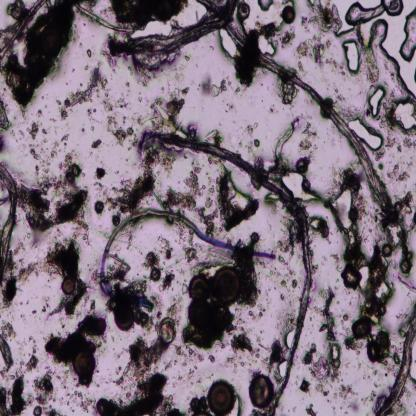Air bubble: (344, 0, 404, 27), (347, 118, 383, 149), (399, 5, 416, 60), (390, 98, 416, 131), (340, 39, 361, 75), (365, 86, 386, 116), (218, 29, 238, 59), (258, 34, 276, 56), (95, 316, 108, 334), (256, 0, 274, 12), (286, 327, 296, 348), (276, 358, 287, 376), (31, 404, 41, 416), (28, 395, 34, 403)
Background material: (2, 0, 76, 107), (109, 333, 167, 416), (16, 177, 93, 235), (139, 80, 200, 146), (14, 118, 60, 194), (215, 165, 262, 230), (93, 167, 156, 214), (309, 286, 339, 384), (232, 24, 276, 89), (41, 314, 95, 366), (178, 302, 235, 349), (228, 235, 264, 308), (362, 243, 394, 323), (57, 70, 106, 122), (100, 85, 136, 150), (327, 166, 360, 234), (353, 187, 388, 244), (110, 250, 147, 300), (47, 278, 90, 320), (43, 238, 83, 281), (9, 333, 39, 380), (136, 141, 176, 175), (297, 0, 336, 34), (299, 34, 335, 68), (160, 185, 199, 216), (340, 226, 368, 269), (180, 154, 208, 197), (31, 366, 59, 406), (59, 152, 87, 188), (196, 202, 224, 238), (14, 257, 45, 289), (176, 223, 200, 264), (273, 218, 300, 254), (379, 87, 403, 127), (200, 71, 234, 98), (8, 372, 28, 416), (298, 118, 320, 156), (360, 47, 380, 86), (190, 252, 225, 274), (366, 337, 390, 369), (277, 76, 301, 107), (230, 334, 261, 358), (275, 303, 297, 335), (398, 220, 414, 261), (133, 310, 158, 335), (0, 332, 13, 378), (392, 198, 416, 222), (12, 231, 34, 257), (274, 26, 298, 49), (158, 397, 187, 416), (313, 212, 331, 242), (339, 334, 365, 354), (332, 382, 357, 402), (268, 336, 284, 367), (0, 279, 15, 312), (102, 44, 118, 74), (140, 247, 162, 268), (71, 390, 94, 410), (278, 252, 297, 276), (231, 304, 247, 332), (190, 395, 211, 416), (387, 165, 410, 184), (95, 399, 119, 416), (121, 226, 138, 250), (176, 341, 193, 365), (323, 59, 344, 77), (302, 344, 319, 365), (0, 101, 11, 133), (0, 319, 16, 341), (336, 102, 358, 118), (224, 356, 247, 371), (0, 385, 11, 416), (94, 334, 108, 357), (126, 132, 142, 152), (293, 58, 309, 77), (158, 235, 170, 260), (55, 369, 70, 389), (89, 267, 101, 292), (76, 374, 95, 389), (389, 402, 409, 416), (330, 252, 342, 274), (42, 404, 64, 416), (84, 294, 97, 314), (136, 68, 150, 86), (188, 359, 200, 380), (51, 224, 66, 240), (160, 270, 172, 290), (244, 121, 258, 138), (267, 268, 282, 283), (245, 139, 261, 153), (169, 300, 180, 319), (391, 345, 402, 364), (360, 391, 378, 402), (349, 398, 362, 413), (68, 227, 82, 240), (89, 137, 104, 149), (244, 307, 257, 320), (385, 136, 397, 150), (375, 147, 386, 162), (316, 380, 327, 395), (299, 378, 309, 394), (42, 294, 50, 314), (59, 392, 70, 406), (180, 279, 189, 296), (256, 300, 265, 317), (82, 232, 92, 247), (87, 106, 98, 119), (403, 136, 416, 147), (60, 131, 71, 144), (306, 403, 317, 416), (123, 76, 131, 93), (18, 105, 28, 118), (396, 312, 411, 320), (375, 398, 385, 410), (289, 278, 301, 288), (104, 376, 118, 384), (106, 298, 114, 312), (269, 105, 279, 116), (360, 371, 372, 380), (95, 58, 104, 70), (387, 71, 396, 82), (255, 261, 266, 270), (341, 322, 350, 333), (236, 138, 244, 150), (196, 354, 205, 364), (36, 108, 46, 117), (249, 358, 258, 367), (337, 93, 346, 102), (261, 356, 269, 366), (311, 263, 318, 274), (128, 64, 134, 76), (267, 220, 273, 231), (165, 361, 173, 369), (322, 253, 327, 265), (412, 213, 416, 228), (344, 312, 350, 322), (396, 146, 404, 153), (209, 354, 216, 362), (86, 50, 93, 58), (82, 64, 90, 71), (19, 312, 26, 320), (280, 291, 285, 301), (260, 328, 266, 336), (280, 280, 286, 288), (373, 368, 379, 376), (49, 116, 57, 122), (357, 362, 363, 369), (332, 406, 336, 416), (94, 382, 100, 388), (139, 90, 142, 102), (62, 320, 66, 328), (31, 309, 37, 314), (373, 382, 378, 388), (111, 334, 115, 341), (380, 164, 384, 171), (334, 90, 339, 95), (79, 82, 83, 88), (90, 126, 94, 132), (385, 374, 389, 378), (27, 299, 30, 304), (20, 300, 23, 305), (82, 128, 85, 132), (360, 90, 362, 95), (294, 409, 297, 412)
Cellulose filter fibre: (147, 128, 317, 399), (230, 23, 395, 218), (108, 0, 236, 55), (376, 315, 416, 416), (0, 0, 45, 64), (0, 160, 17, 282), (75, 0, 130, 35), (273, 115, 299, 174)
Diatom: (246, 370, 278, 408), (205, 379, 237, 416), (211, 266, 239, 306), (185, 295, 214, 330), (112, 303, 136, 333), (188, 275, 212, 303), (72, 352, 98, 376), (158, 316, 178, 346), (7, 68, 29, 94), (342, 264, 362, 290), (352, 318, 374, 337), (63, 278, 77, 297), (237, 1, 252, 18), (296, 156, 309, 174), (376, 330, 388, 349), (283, 6, 295, 23), (301, 178, 314, 192), (400, 260, 412, 275), (349, 207, 359, 222), (94, 201, 104, 216), (150, 269, 161, 281), (250, 230, 260, 243), (112, 213, 121, 227), (382, 244, 392, 256), (394, 201, 402, 212), (333, 358, 341, 368)
Microfibre: (100, 211, 274, 296)
